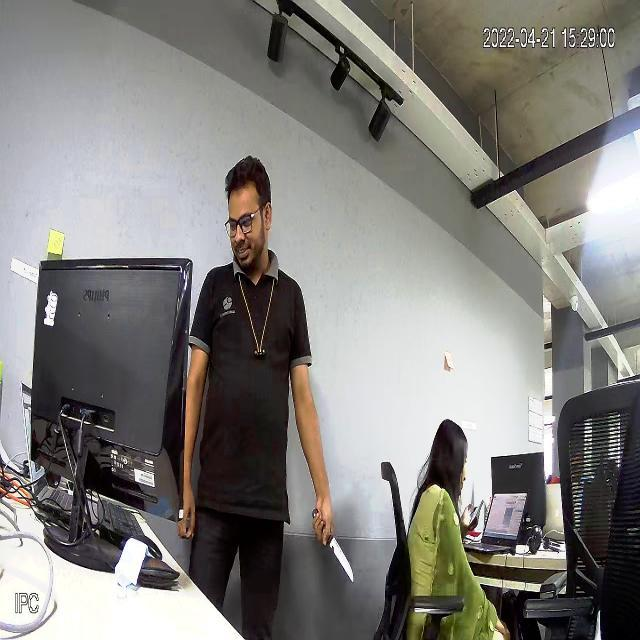Knife: (313, 508, 366, 582)
